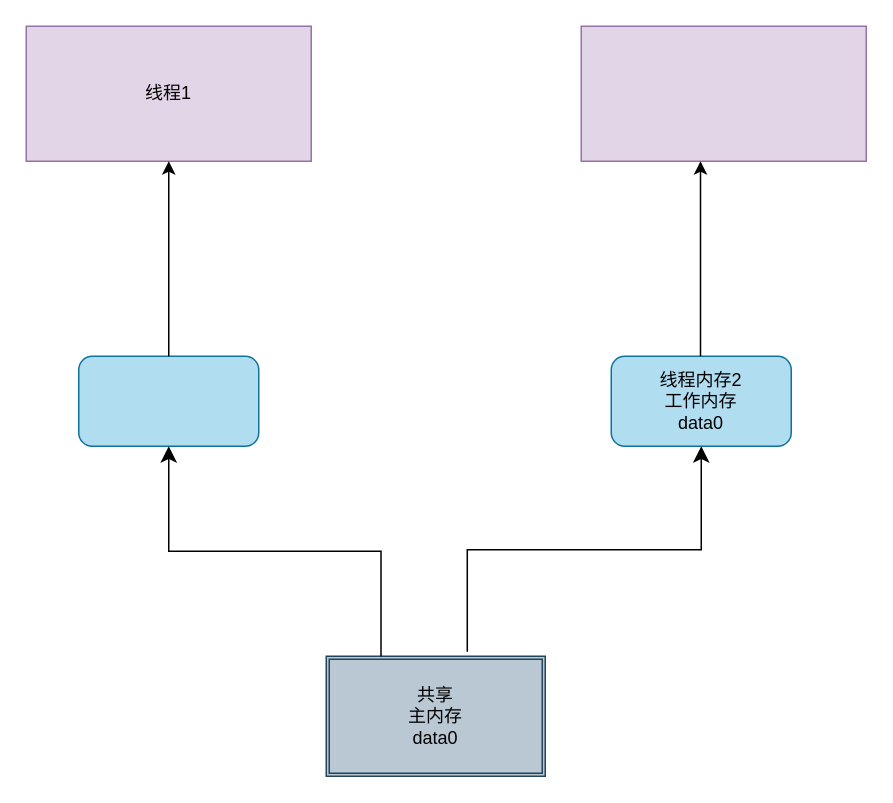
Some shapes in this 893 by 803 pixel diagram are drawn without their labels. The centre of each missing label's shape, as x and y in pixels:
线程2: (723,93)
线程内存1 工作内存 data0: (168,400)
